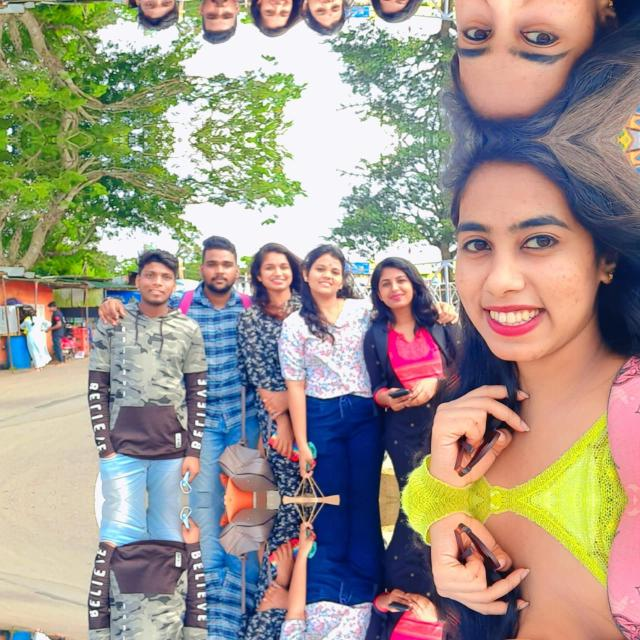person: (438, 140, 640, 500), (438, 0, 639, 140), (438, 500, 639, 640), (288, 242, 384, 490), (369, 232, 451, 458), (112, 238, 188, 478), (187, 224, 257, 432), (243, 224, 310, 436), (288, 510, 383, 640), (112, 522, 187, 640), (369, 542, 451, 640), (243, 563, 310, 640), (187, 568, 257, 640), (369, 0, 451, 47), (187, 0, 257, 55), (243, 0, 310, 56), (288, 0, 383, 38), (112, 0, 187, 42)
